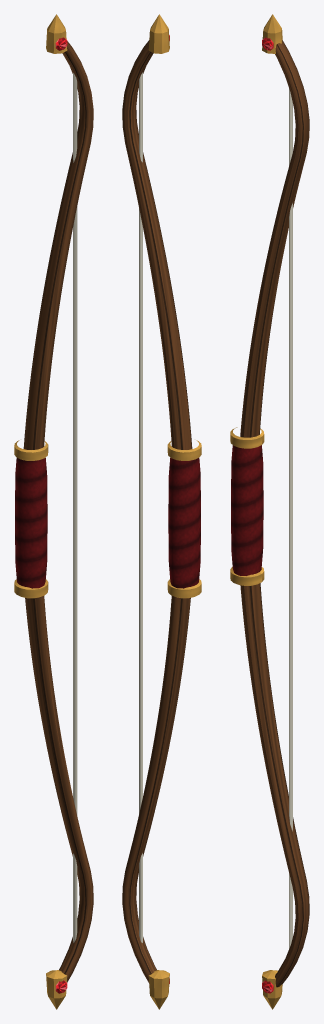
Rendered from HuntersRecurveBow.glb.
The picture shows the model from 3 angles, left to right: view 1: azimuth 30°, elevation 25°; view 2: azimuth 150°, elevation 25°; view 3: azimuth 330°, elevation 25°; orthographic projection.
Visible parts, largest first — view 1: HuntersRecurveBow; view 2: HuntersRecurveBow; view 3: HuntersRecurveBow.
Part boxes in pixels (left/top/right/bottom): HuntersRecurveBow: left=14, top=14, right=93, bottom=1009; HuntersRecurveBow: left=122, top=14, right=201, bottom=1009; HuntersRecurveBow: left=230, top=14, right=309, bottom=1009.
Size of the model in its own units: 0.3551 by 4.5 by 0.1536.
1 material, 1 textured.
